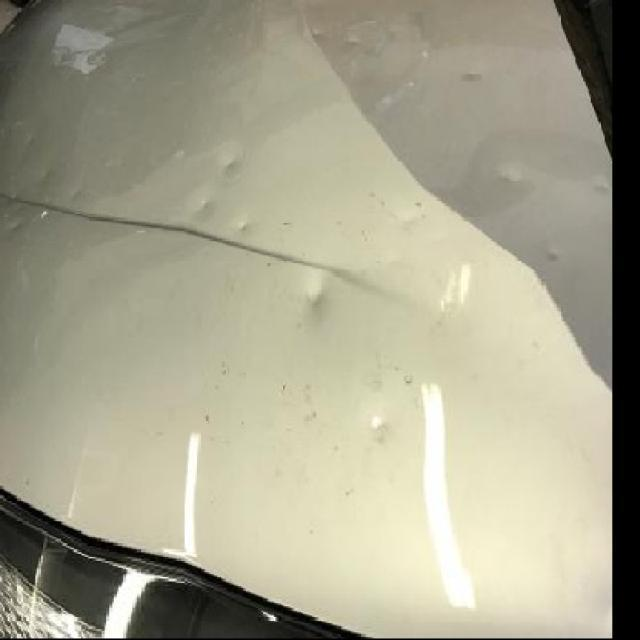dent: (299, 275, 328, 314), (368, 411, 393, 440), (219, 156, 245, 179), (499, 162, 528, 182), (192, 193, 217, 216), (545, 245, 565, 262), (594, 179, 610, 196), (234, 217, 251, 232), (8, 217, 25, 232), (37, 168, 54, 182), (25, 139, 36, 150)
